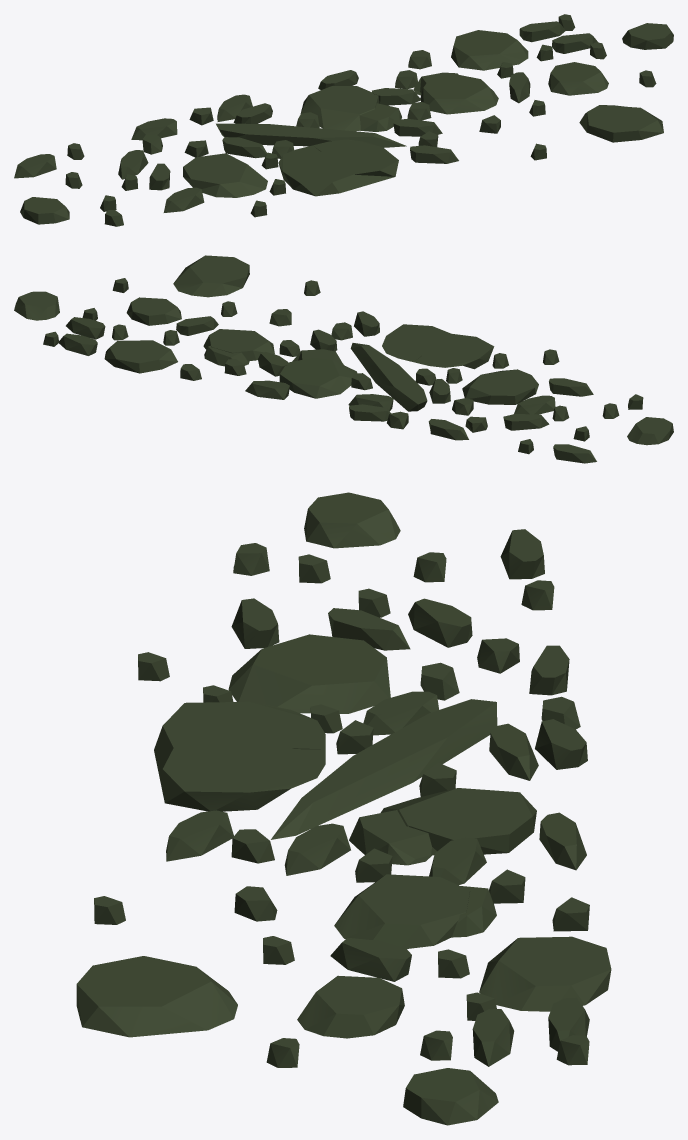
Rendered from EA_Swamp_Stones_04c.glb.
3 renders of one model, top to bottom at view 1: azimuth 30°, elevation 25°; view 2: azimuth 150°, elevation 25°; view 3: azimuth 270°, elevation 25°, orthographic. The views are drawn at different scales.
Visible parts, largest first — view 1: EA_Swamp_Stones_04c; view 2: EA_Swamp_Stones_04c; view 3: EA_Swamp_Stones_04c.
Boxes of the visible parts, x1=… form: EA_Swamp_Stones_04c: x1=14, y1=14, x2=673, y2=226; EA_Swamp_Stones_04c: x1=14, y1=255, x2=673, y2=463; EA_Swamp_Stones_04c: x1=76, y1=492, x2=611, y2=1125.
Bounding box in the file's own units: 9.26 × 0.1394 × 3.4.
Materials: 1 (1 with a texture image).
